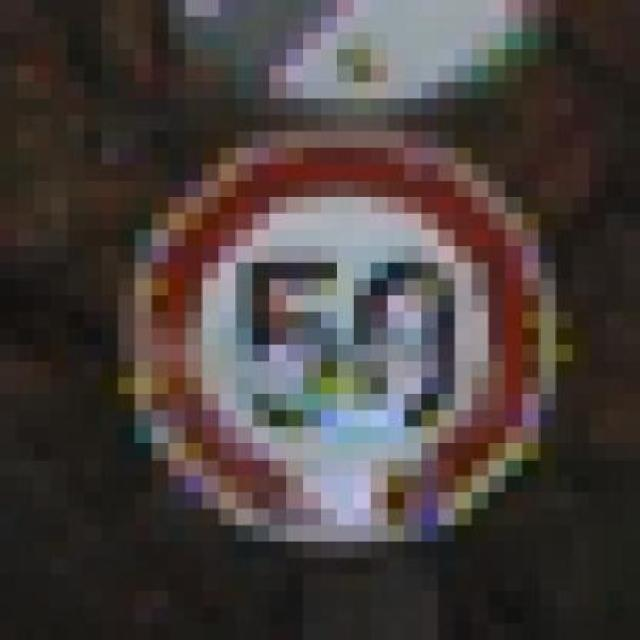forb_speed_over_50: (146, 138, 546, 542)
